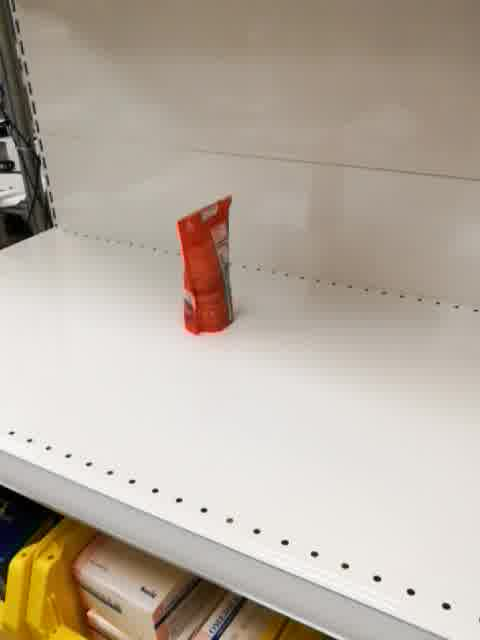whitechia: (176, 191, 236, 336)
